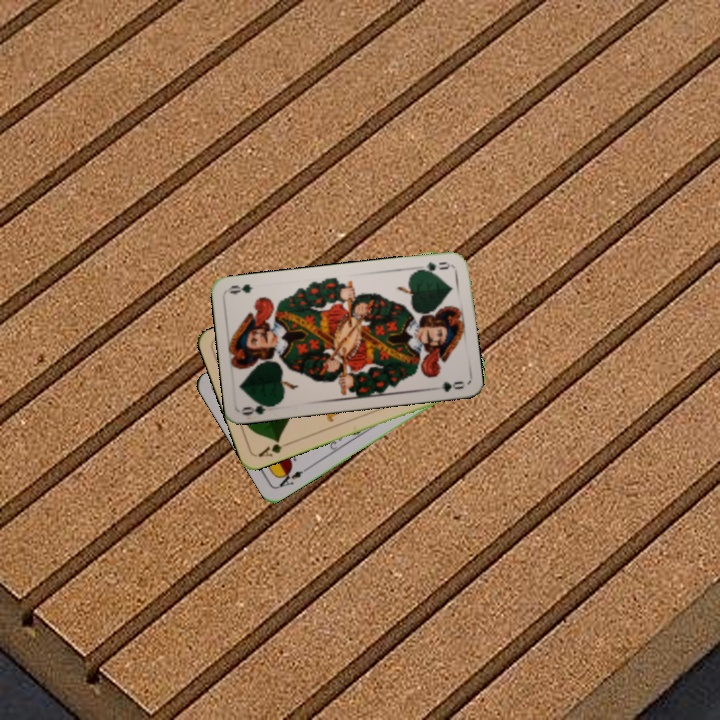EA: (274, 464, 310, 490)
GA: (254, 436, 293, 460)
GO: (239, 398, 279, 419), (413, 257, 452, 276)
